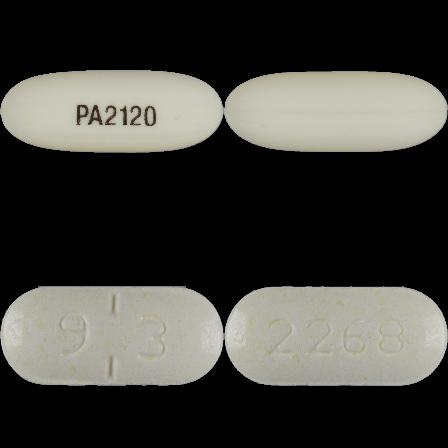21695-417: (0, 0, 224, 224)
